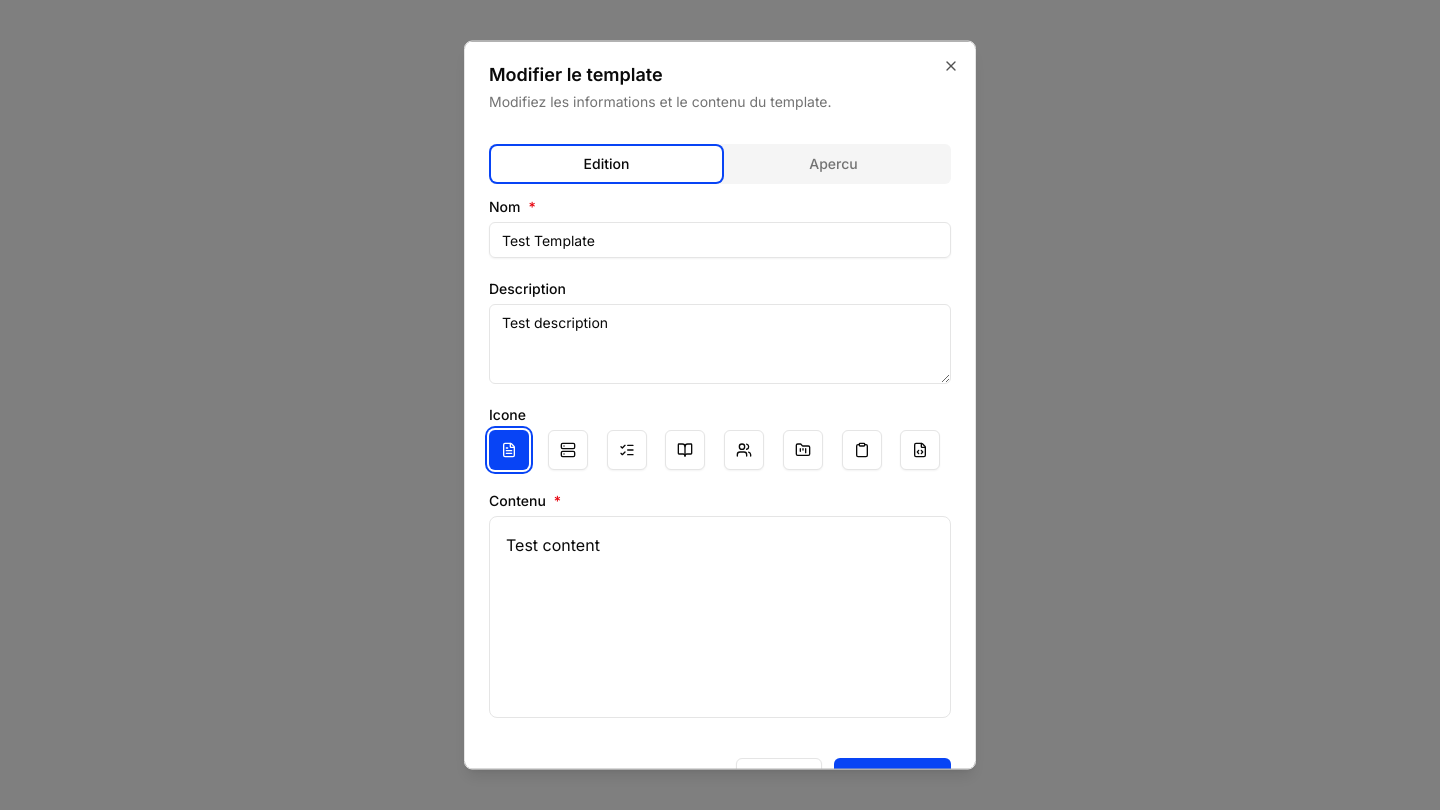
TemplateDialog › switches to preview tab when clicked
The width and height of the screenshot is (1440, 810).
Click the tab "Apercu" at (834, 164), box x1=720 y1=148 x2=947 y2=180
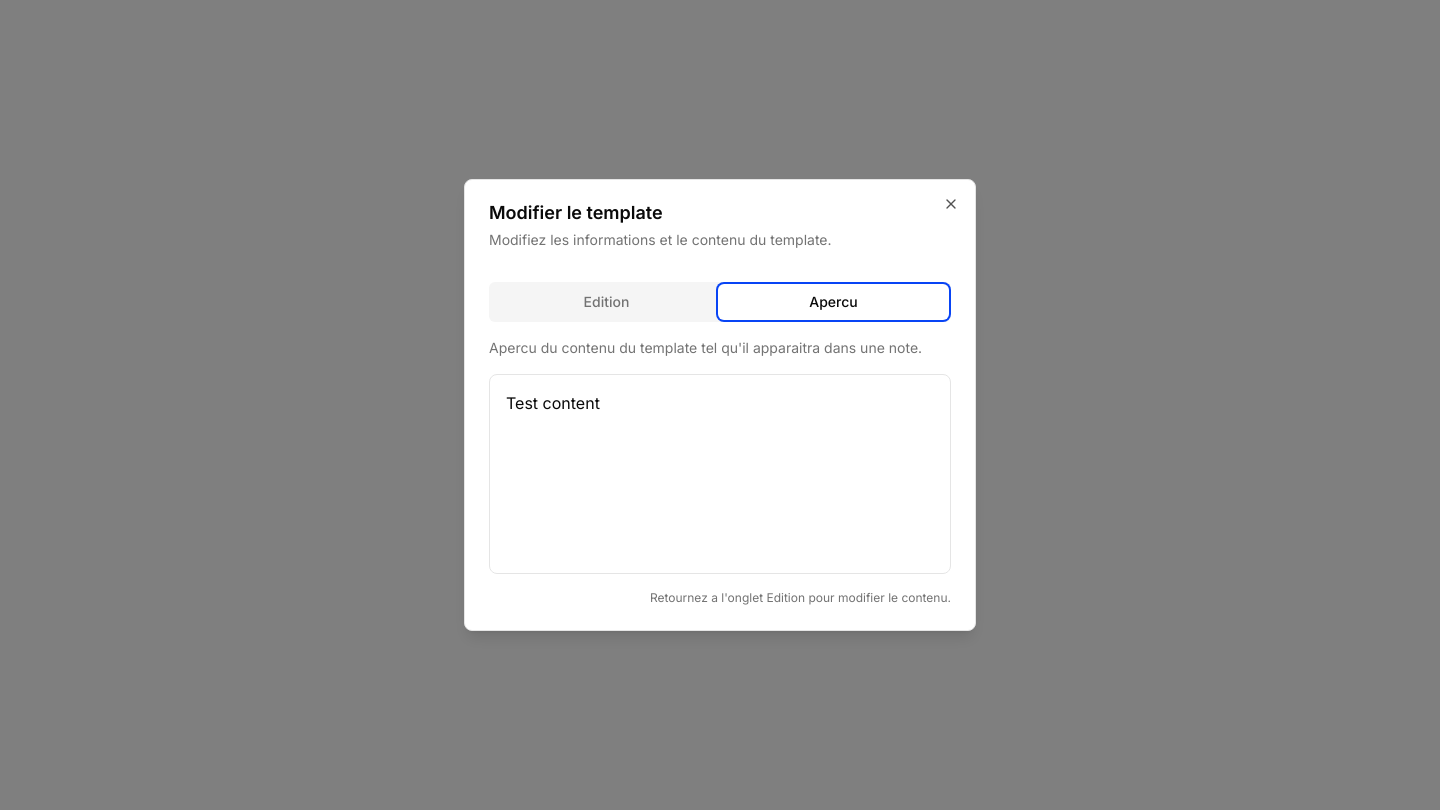
Check: the text "Apercu du contenu du template tel qu'il apparaitra dans une note." is shown, box x1=489 y1=339 x2=922 y2=356
